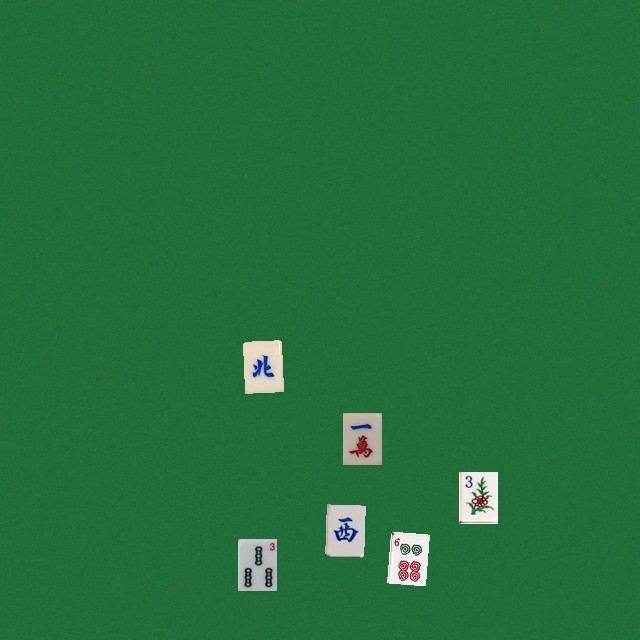tile: (237, 538, 276, 590), (386, 531, 425, 583), (325, 504, 364, 556), (242, 340, 281, 392), (342, 412, 381, 464), (458, 471, 497, 523)
